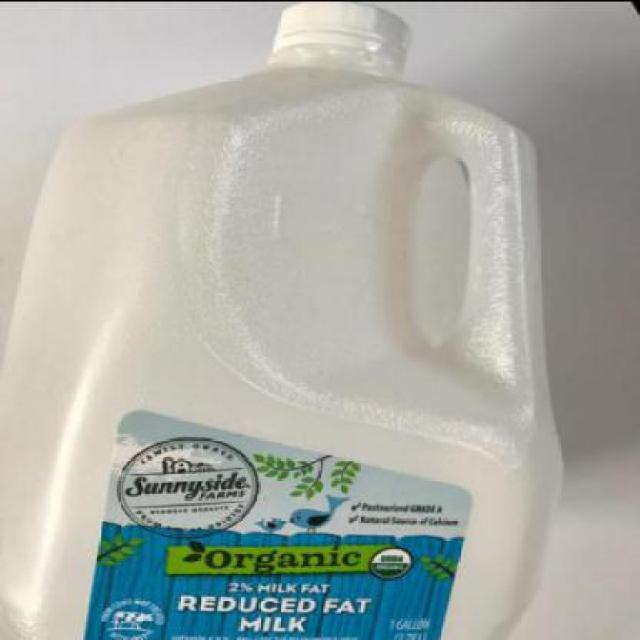PLASTIC: (0, 1, 565, 638), (270, 2, 410, 66)
